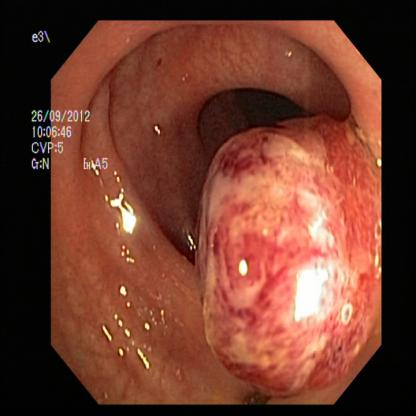Labels: (33, 24, 108, 177)
Polyps: (207, 134, 358, 375)
